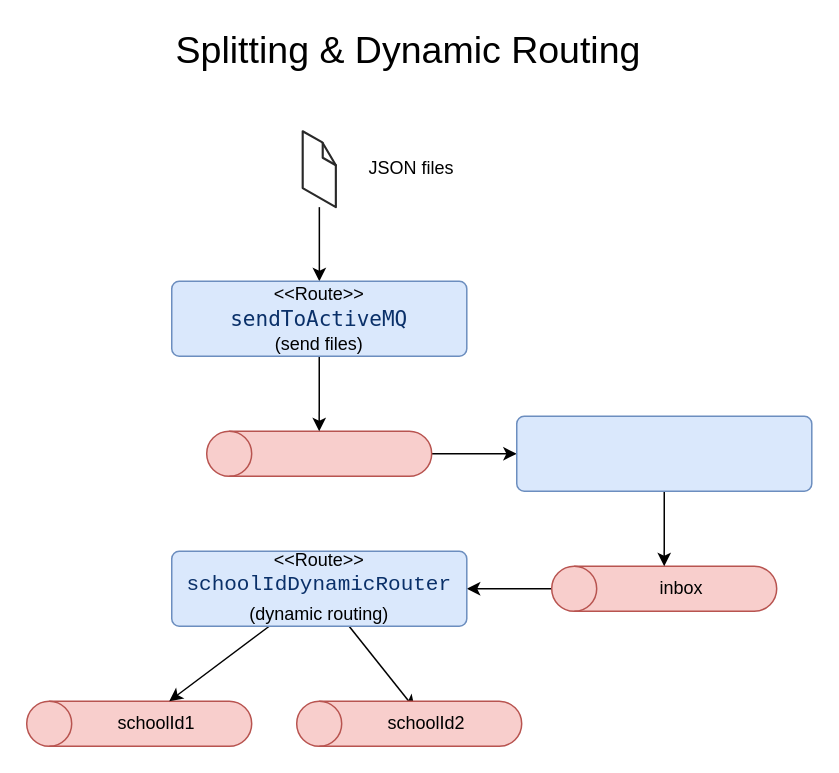
The diagram is 839 pixels wide and 773 high, and some of its shapes have lost their labels. The centre of each missing label's shape, as x and y in pixels:
"<<Route>> receiveFromActiveMQ (split object list)" goes at (x=663, y=453).
"student-queue" goes at (x=318, y=453).
